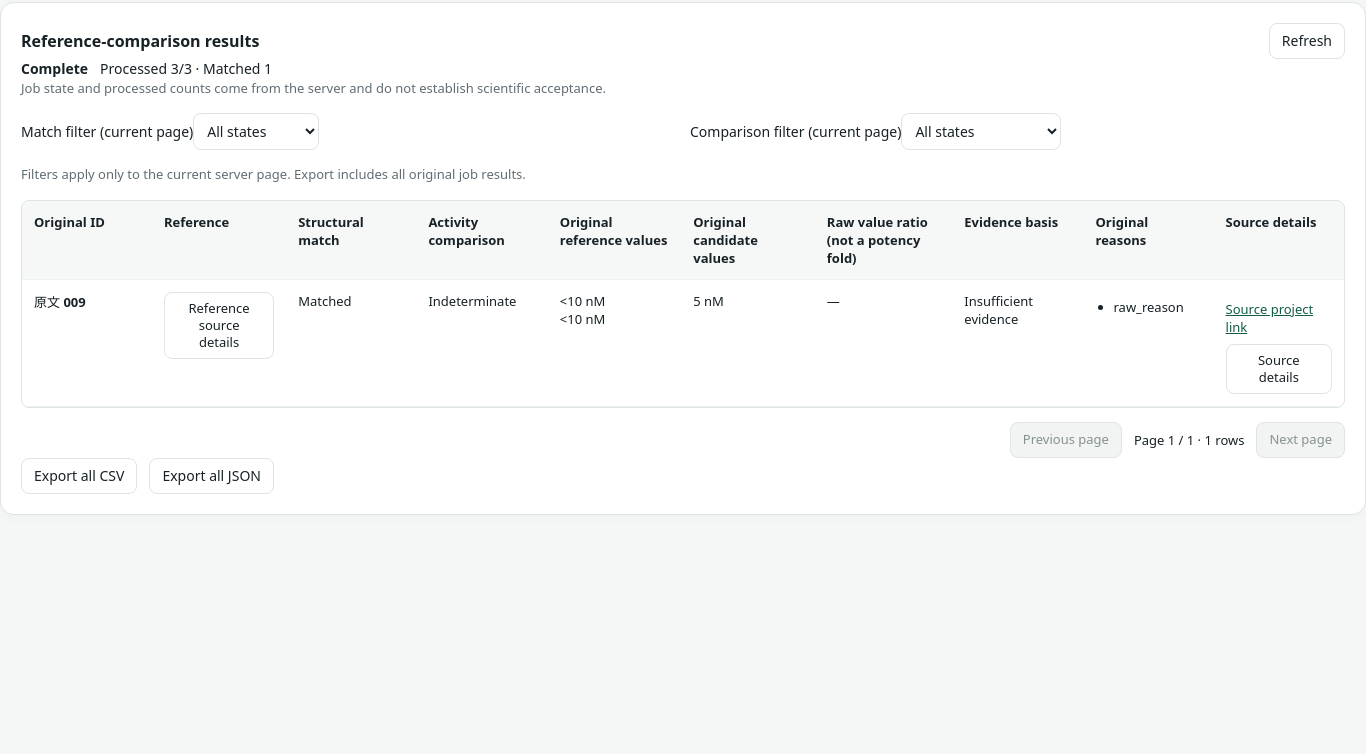
SAR review: historical evidence remains inspectable › gets an ineligible result row source from metadata, not an unavailable drawing
The width and height of the screenshot is (1366, 754).
Click the button "Source details": [1279, 369] box [1226,344,1332,394]
(page scrolled)
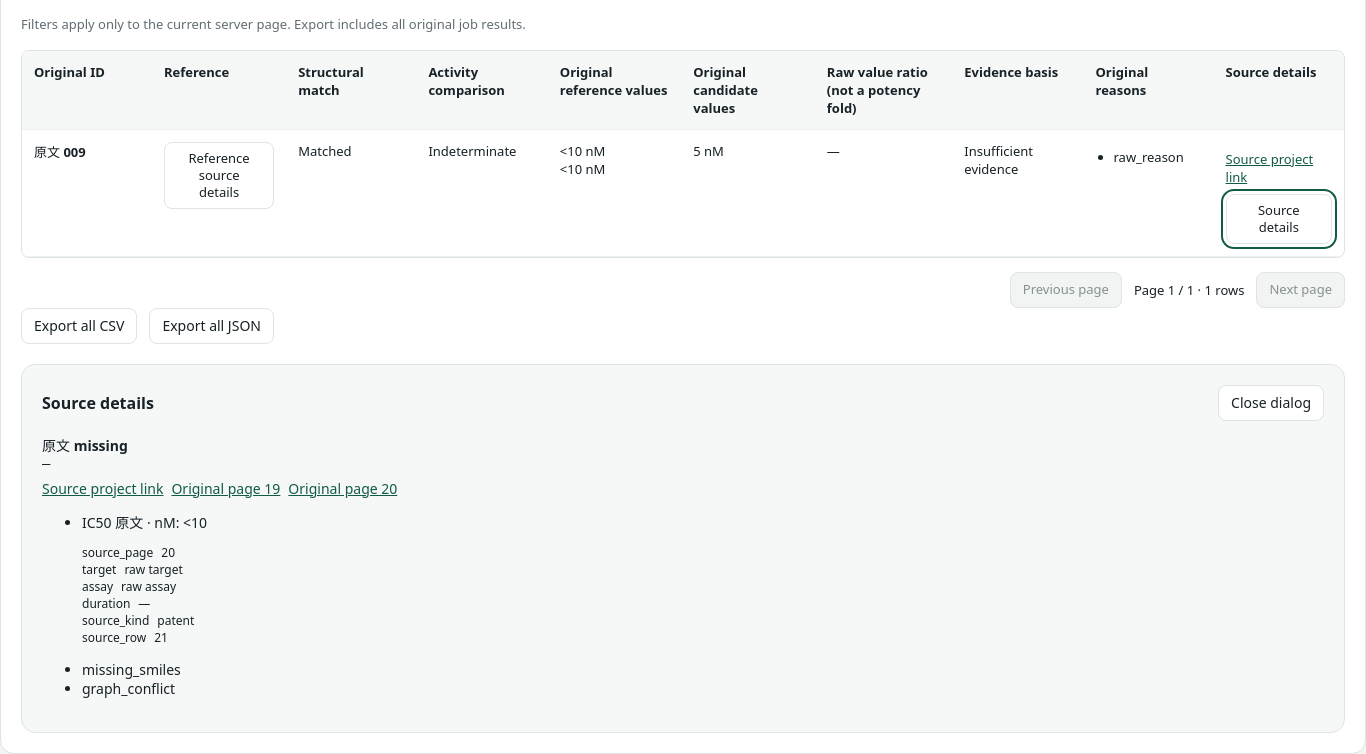
Now the list item "missing_smiles" is shown, box [82,660,181,679]
Now the list item "graph_conflict" is shown, box [82,679,175,698]
Now the text "raw target" is shown, box [124,561,183,578]
